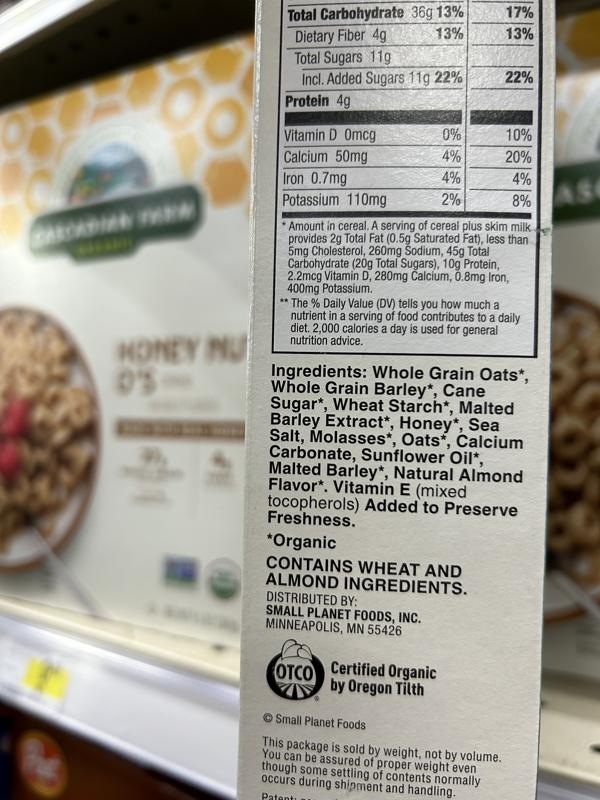ingredients: (266, 362, 529, 527)
